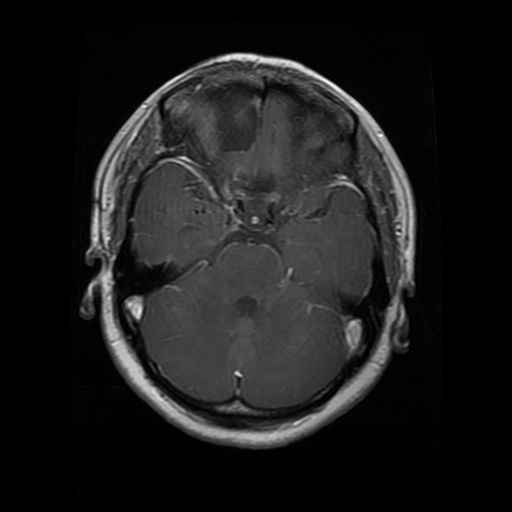glioma: (190, 79, 263, 155)
